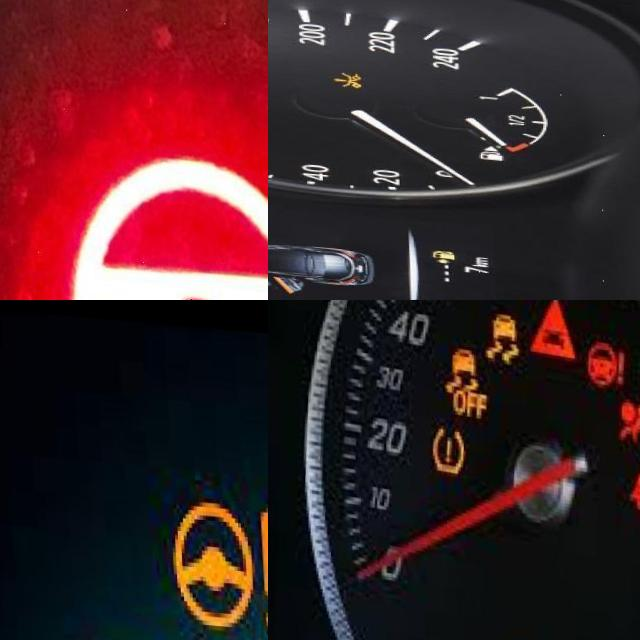Electronic Power Steering: (166, 489, 268, 628), (581, 336, 626, 384)
Electronic Power Steering Warning: (60, 137, 268, 300)
Seat Belt: (627, 452, 640, 503)
